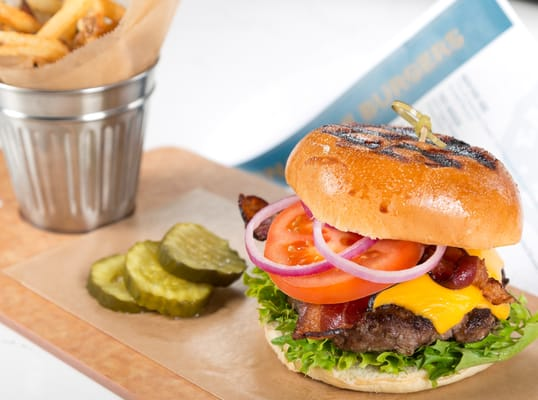pizza: (0, 74, 162, 233)
soup: (240, 112, 535, 393)
sushi: (0, 0, 180, 93)
